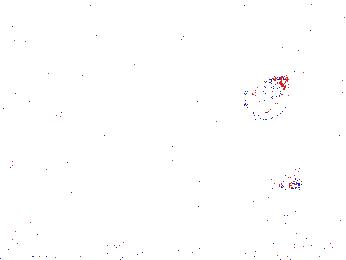flame jellyfish: (273, 173, 346, 232), (244, 74, 291, 123), (273, 160, 319, 204)
